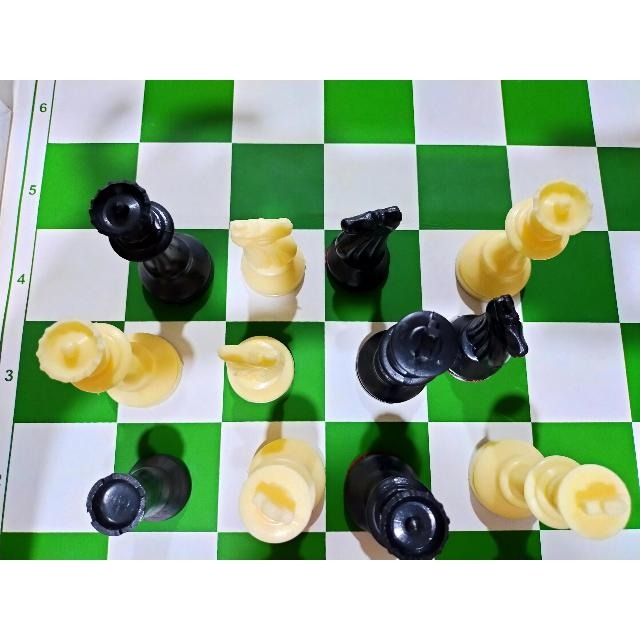black-king: (352, 308, 457, 407)
black-knight: (451, 297, 532, 385), (324, 203, 402, 292)
black-queen: (79, 179, 215, 305), (332, 448, 453, 556)
black-rook: (86, 455, 194, 538)
white-king: (466, 437, 634, 549), (225, 431, 328, 544)
white-knight: (228, 216, 308, 299), (214, 329, 298, 404)
white-queen: (440, 179, 597, 296), (32, 320, 186, 406)
